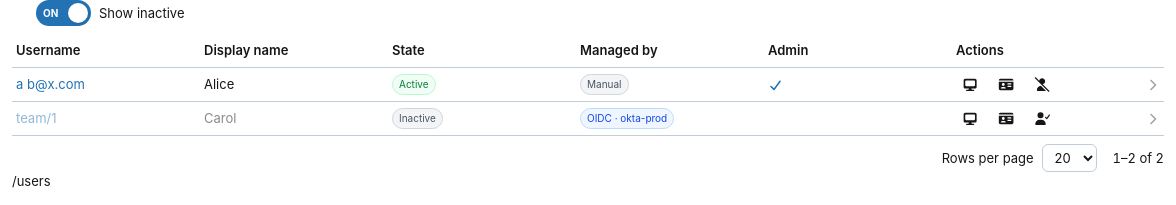
Test: UsersPage › admin › row actions › keeps the Show inactive switch working
This screenshot has width=1176, height=205.
Click the switch at (110, 13), box 36,0 -> 184,26
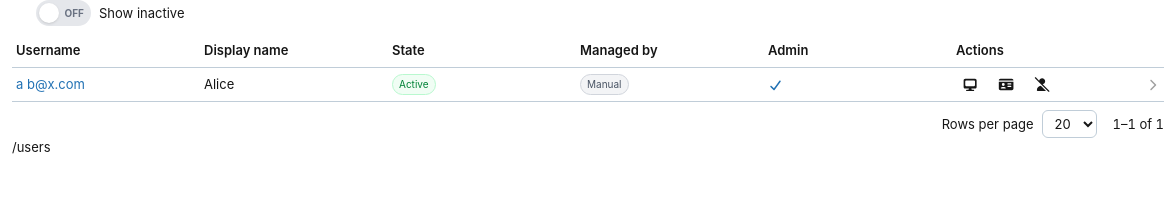
Expected: the text with test id "location" reads "/users", 12,139 -> 51,155
Now the link "team/1" is gone
